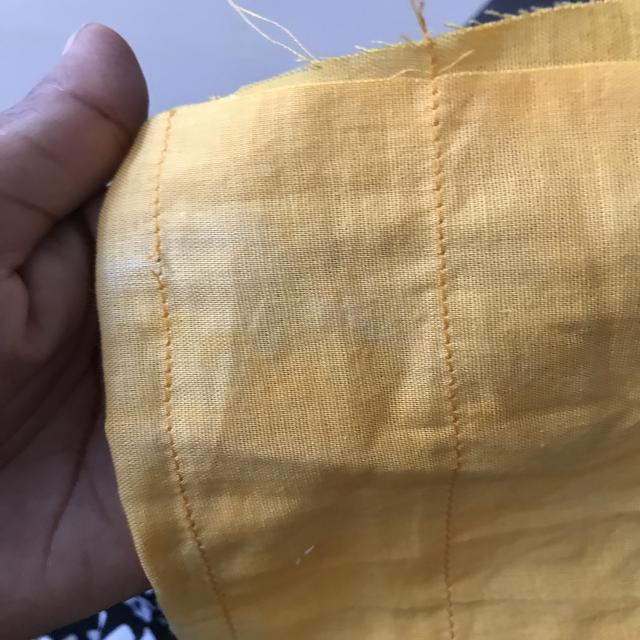broken: (122, 231, 178, 293)
